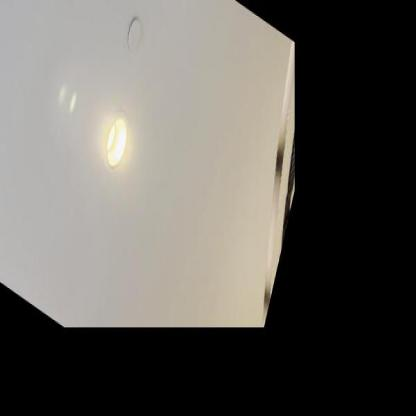light_on: (92, 94, 142, 199)
